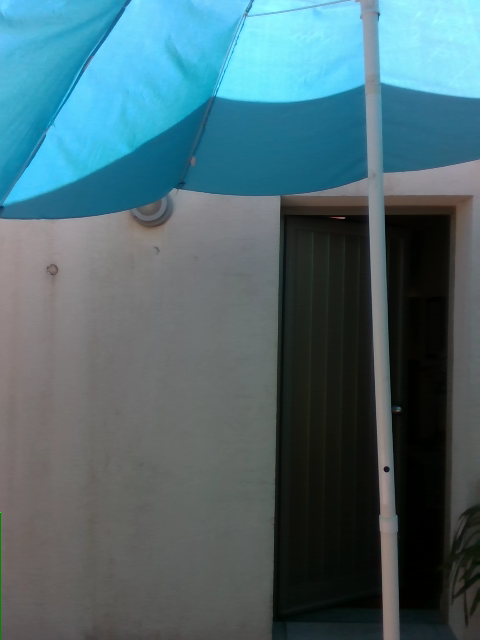semi: (270, 196, 475, 623)
